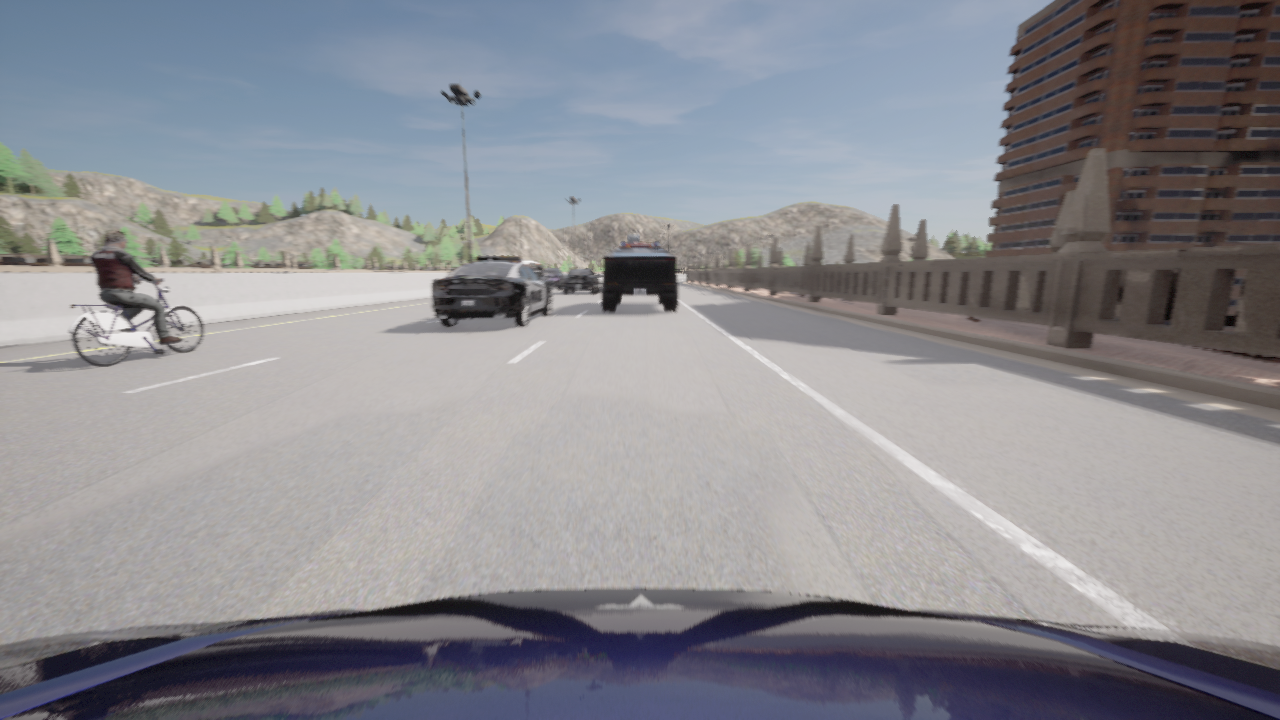cyclist: (0, 588, 1279, 719), (69, 278, 203, 365), (432, 256, 551, 326), (601, 248, 678, 310), (563, 268, 601, 293), (620, 235, 659, 247), (519, 259, 544, 277), (543, 268, 565, 288)
